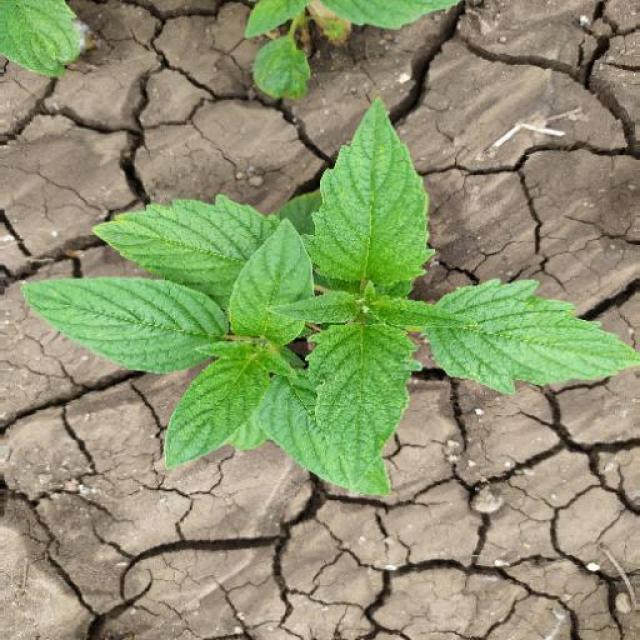crop: (19, 139, 639, 481)
